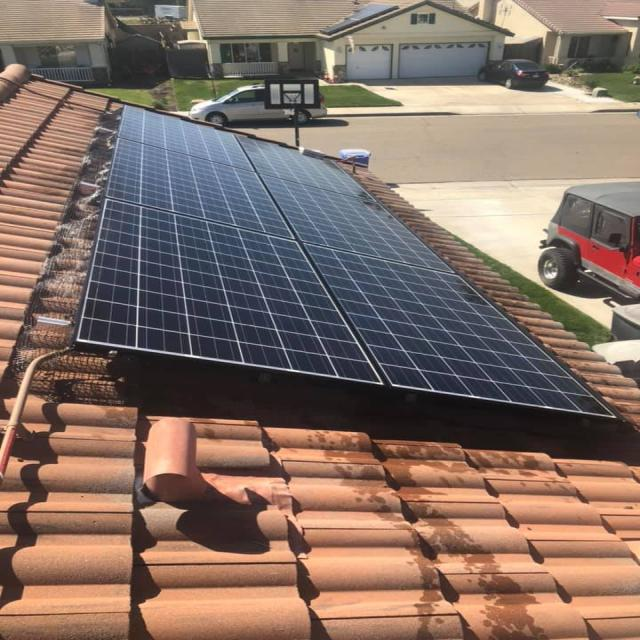clean-solar-panel: (75, 106, 612, 416)
